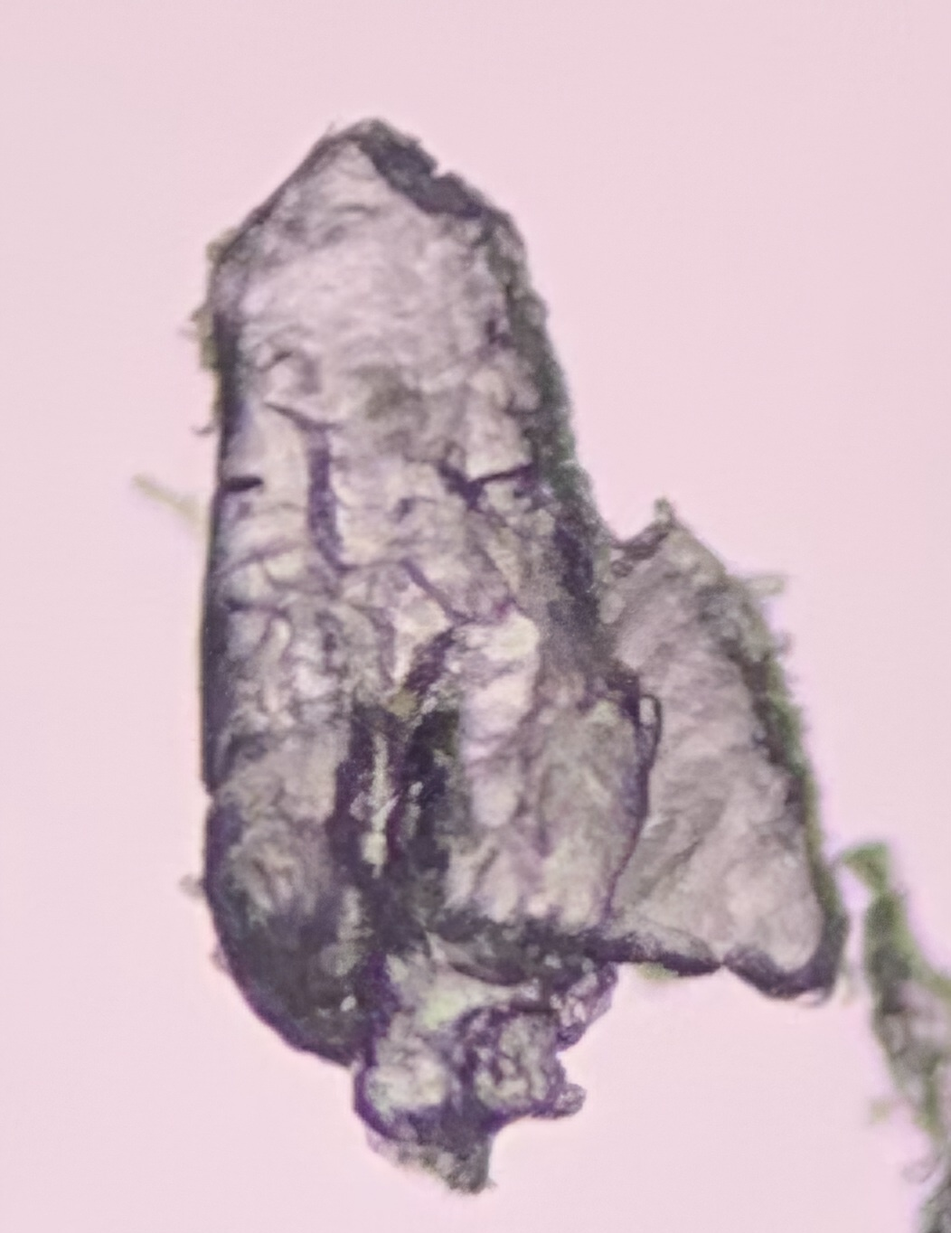microplastic: (127, 117, 850, 1196), (843, 842, 951, 1223)
